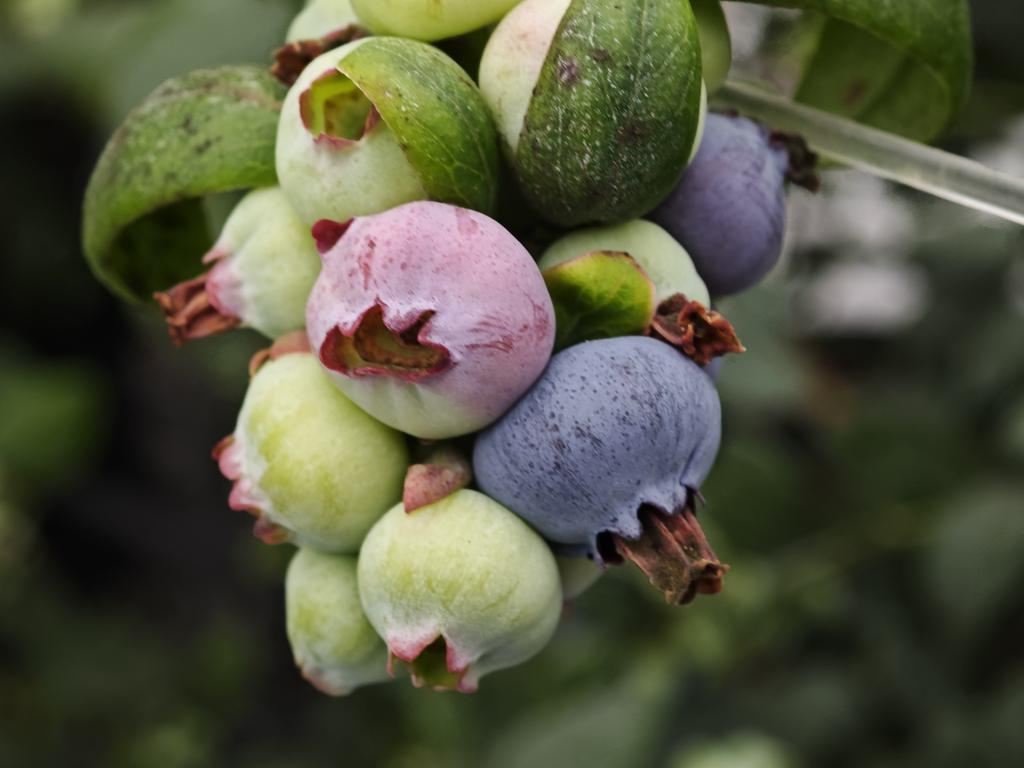Semi-RipeBlueBerry: (309, 197, 552, 441)
